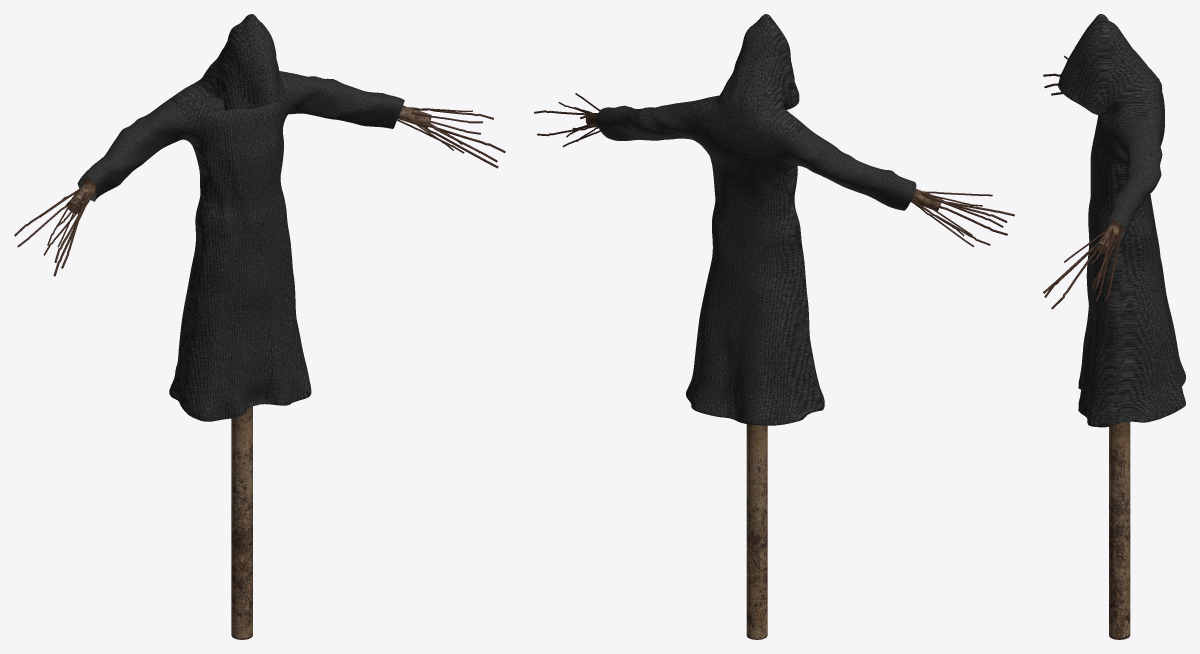
The model's file is scarecrow.glb.
The picture shows the model from 3 angles, left to right: view 1: azimuth 30°, elevation 25°; view 2: azimuth 150°, elevation 25°; view 3: azimuth 270°, elevation 25°; orthographic projection. The views are drawn at different scales.
Visible parts, largest first — view 1: model_0; view 2: model_0; view 3: model_0.
Part boxes in pixels (x1,y1,x2,y2): model_0: (14,14,505,639); model_0: (534,14,1014,639); model_0: (1043,14,1185,639).
Bounding box in the file's own units: 2.55 × 3.2 × 0.6664.
1 material, 1 textured.
